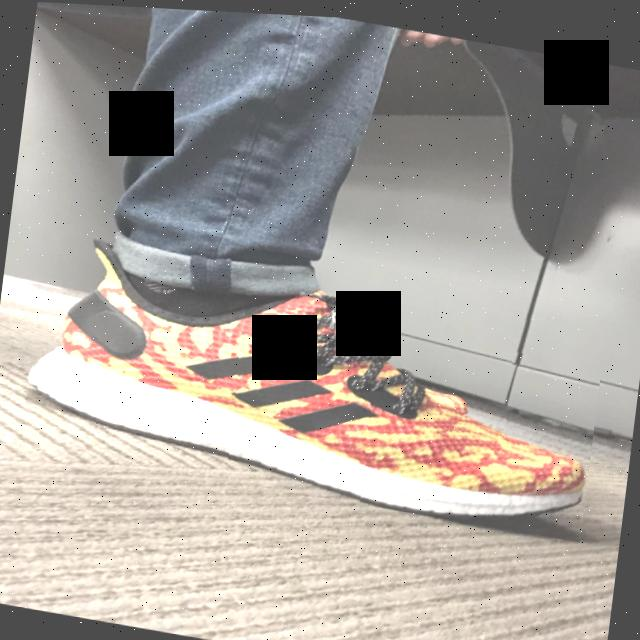shoe: (21, 230, 606, 537)
